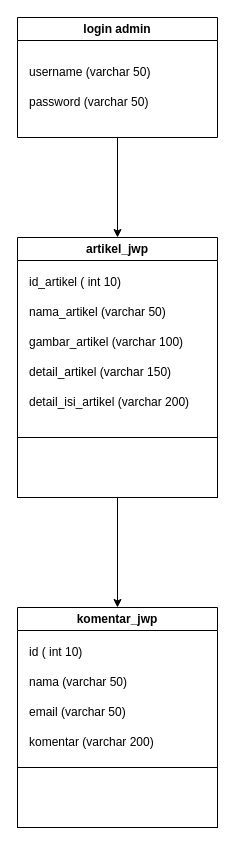
The diagram is 235 pixels wide and 845 high, and some of its shapes have lost their labels. Here are the shapes that lost their labels. From the top down, the centre of each, then its label:
point 117,467: Create Update Delete
point 117,797: Read Delete
